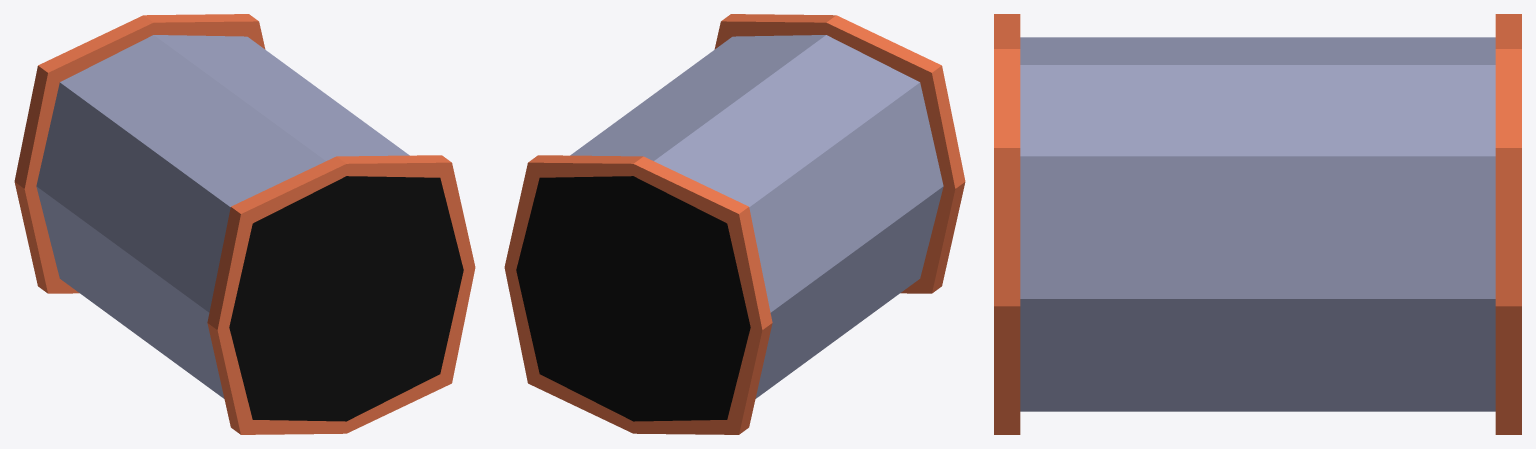
The model's file is ConnectorNode.fbx.
The picture shows the model from 3 angles, left to right: view 1: azimuth 30°, elevation 25°; view 2: azimuth 150°, elevation 25°; view 3: azimuth 270°, elevation 25°; orthographic projection. The views are drawn at different scales.
Visible parts, largest first — view 1: Connector_Straight_LOD0; view 2: Connector_Straight_LOD0; view 3: Connector_Straight_LOD0.
Boxes of the visible parts, <box> form: Connector_Straight_LOD0: <box>14,14,475,434</box>; Connector_Straight_LOD0: <box>504,14,965,434</box>; Connector_Straight_LOD0: <box>994,14,1521,434</box>.
Size of what is drawn, in the model's own units: 220 by 220 by 300.
